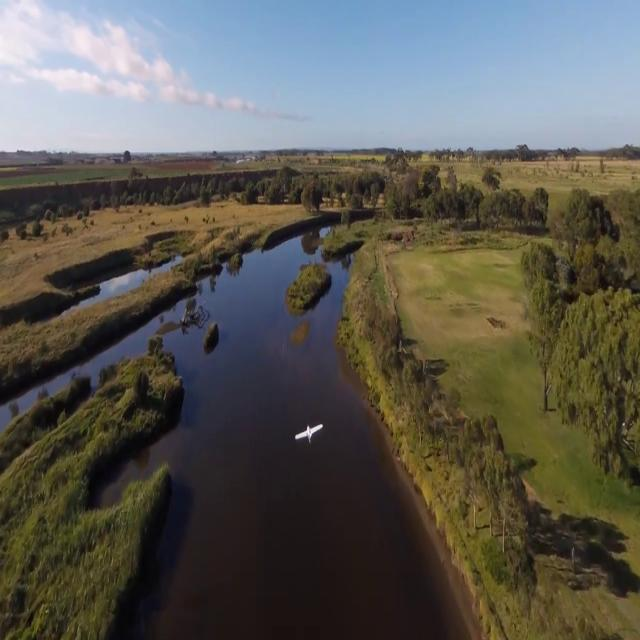iha: (293, 420, 325, 448)
